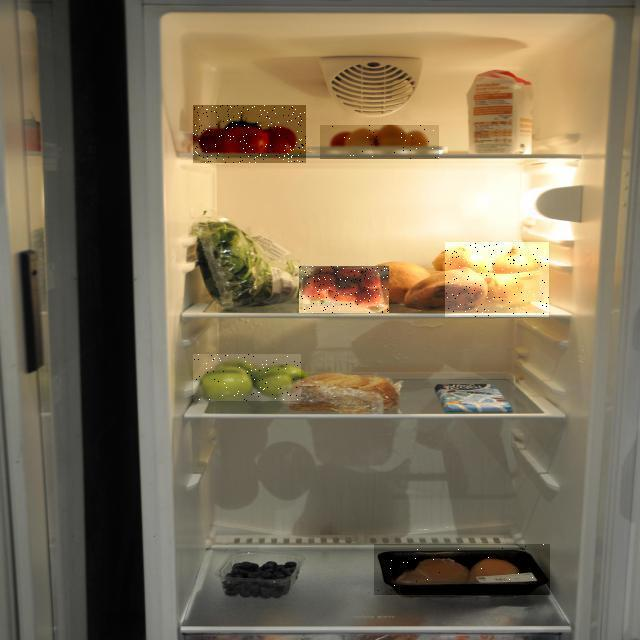apple: (42, 200, 344, 602)
egg: (100, 80, 540, 238)
onion: (170, 158, 640, 476)
tomato: (104, 156, 493, 470), (40, 82, 346, 245)
